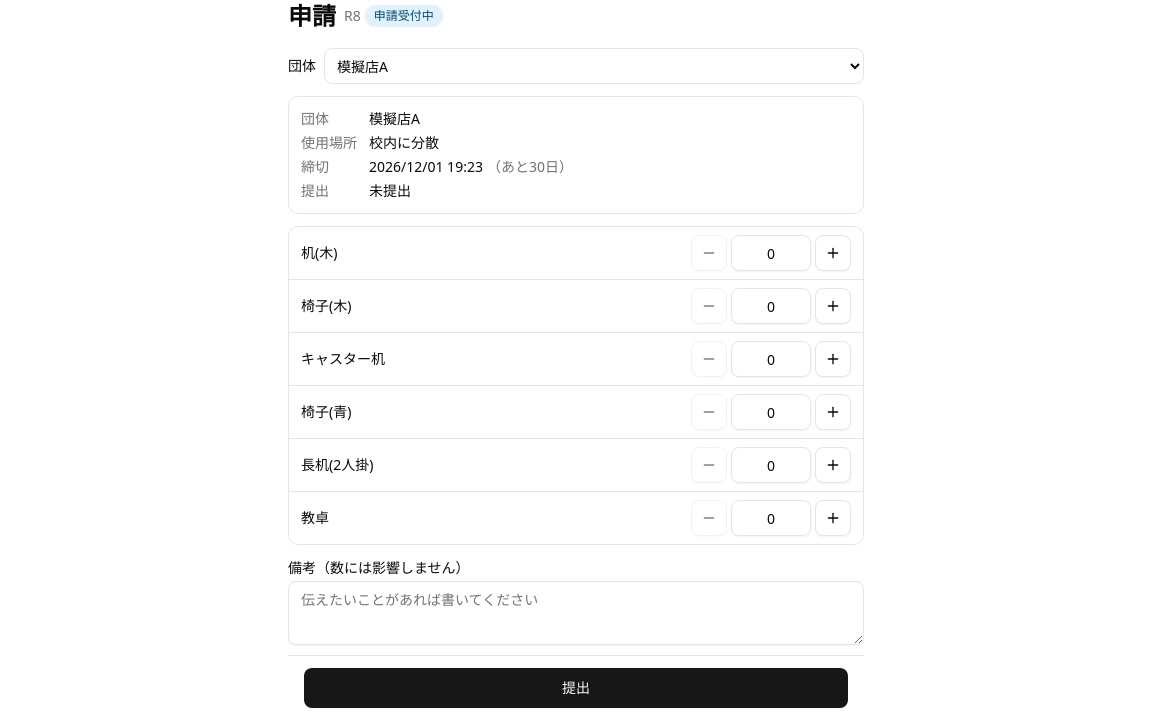
Test: 申請 /request › 提出の応答が届かなかったとき（設計 2.6 の (A)） › 応答が落ちたら入力を残して知らせる。もう一度押すと読み直し、自分の提出が DB に入っていれば送らずに「提出されていました」
Click the button named "机(木)の数を1増やす": [833, 253] box [815,235,851,271]
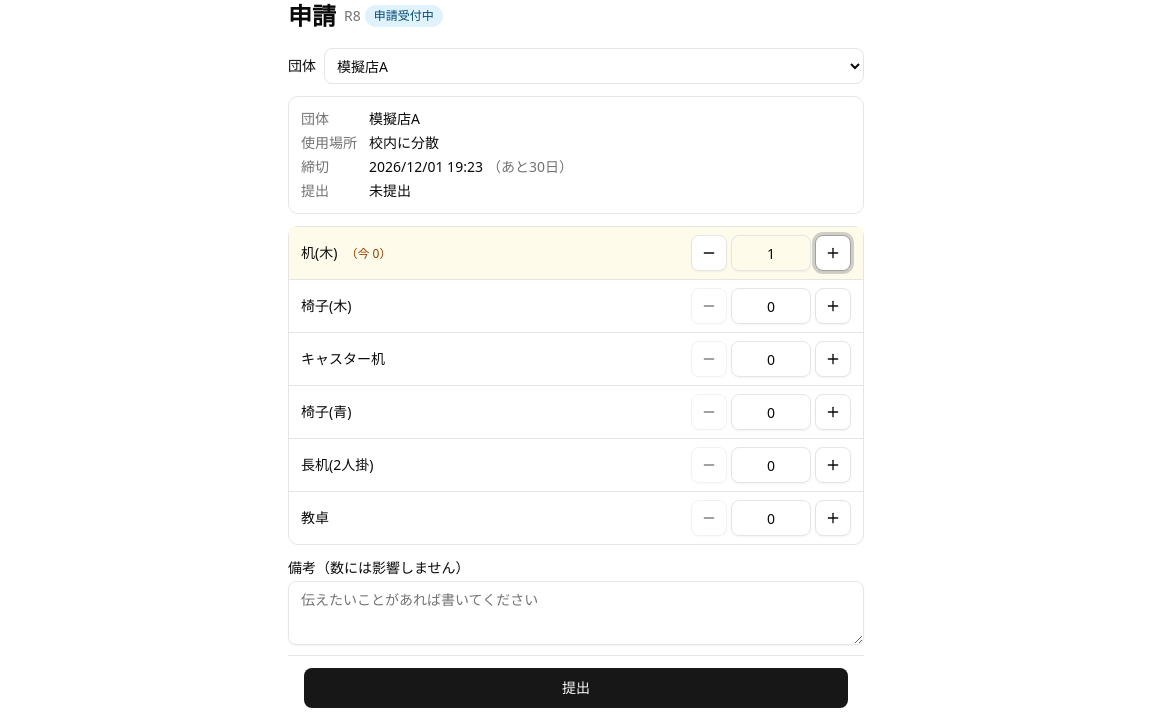
Click the button "提出": [576, 688] box [304,668,848,708]
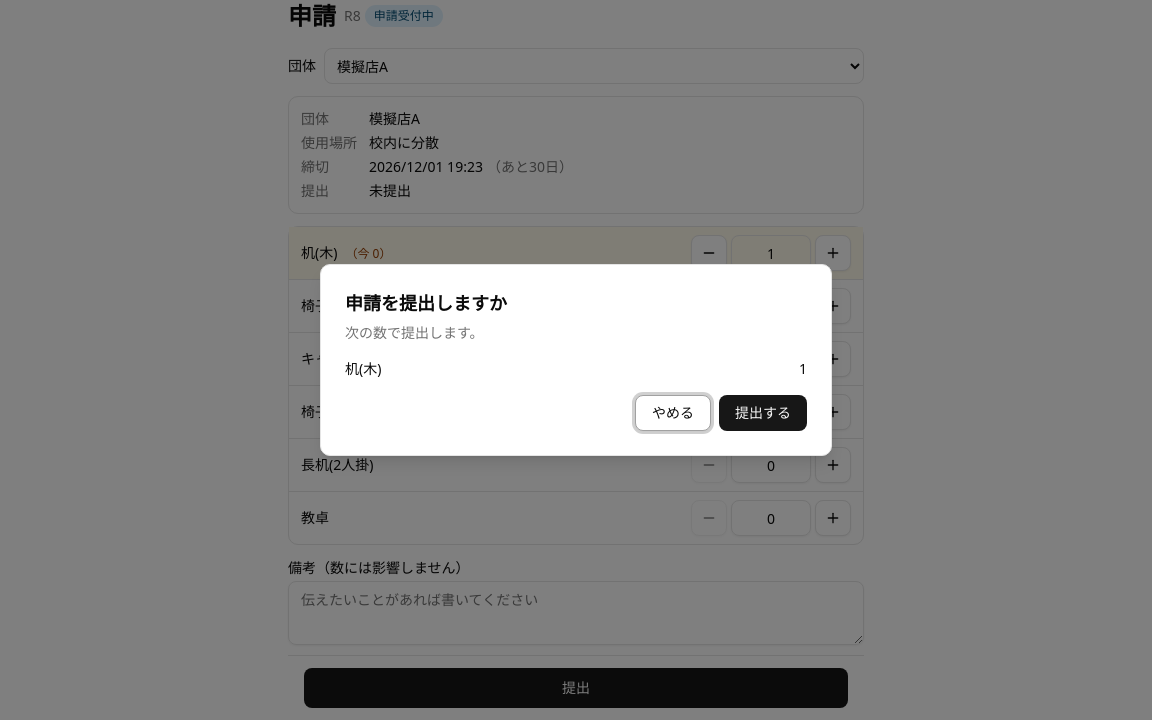
Click the button "提出する": [763, 413] box [719,395,807,431]
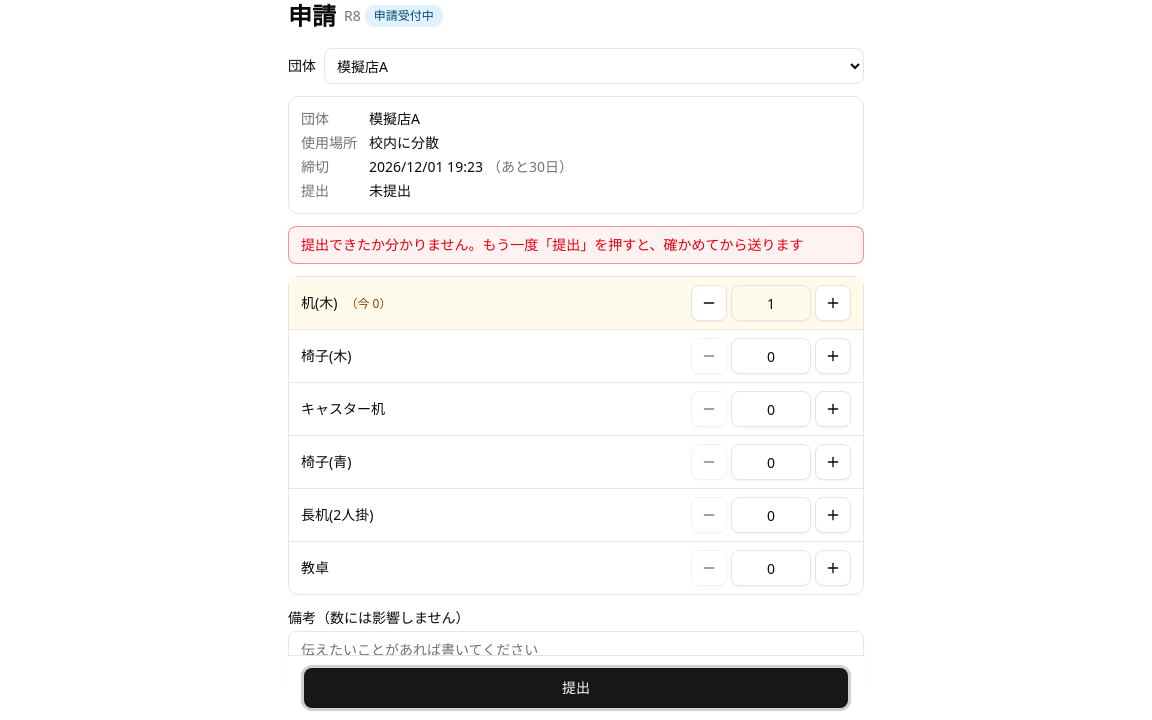
Check: the field with id "request-desk" holds "1", box [731,285,811,321]
Check: the message with test id "submit-error" reads "提出できたか分かりません。もう一度「提出」を押すと、確かめてから送ります", box [301,235,804,254]
Click the button "提出": [576, 688] box [304,668,848,708]
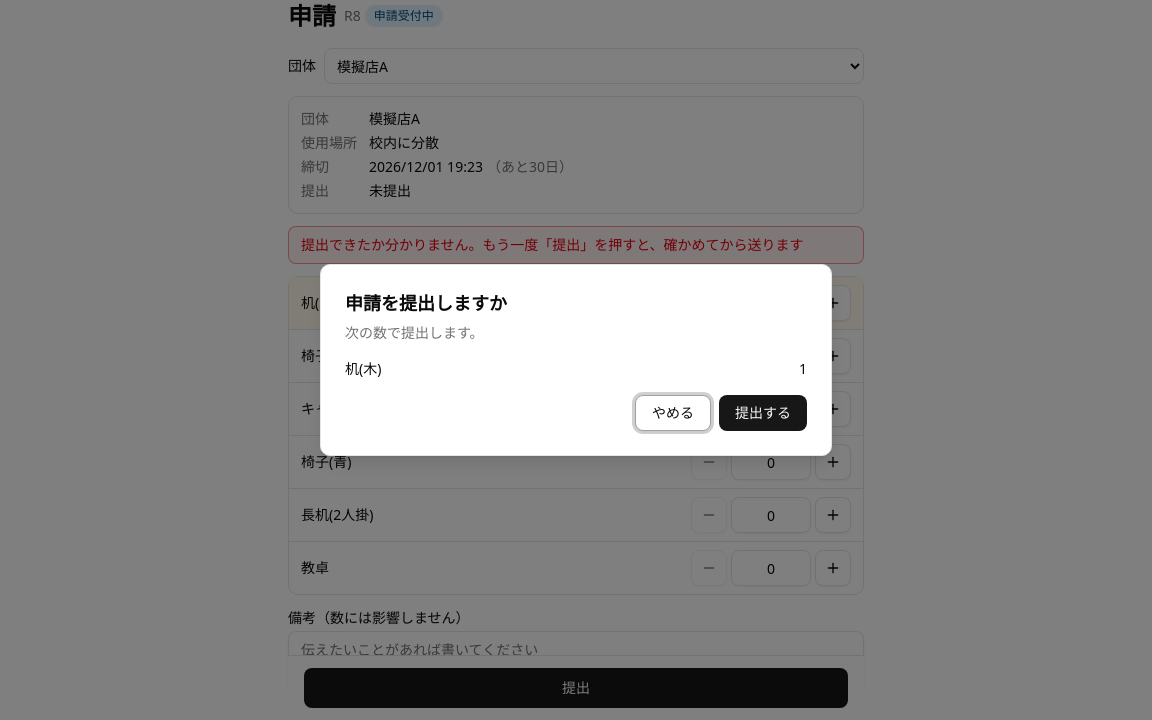
Click the button "提出する": [763, 413] box [719,395,807,431]
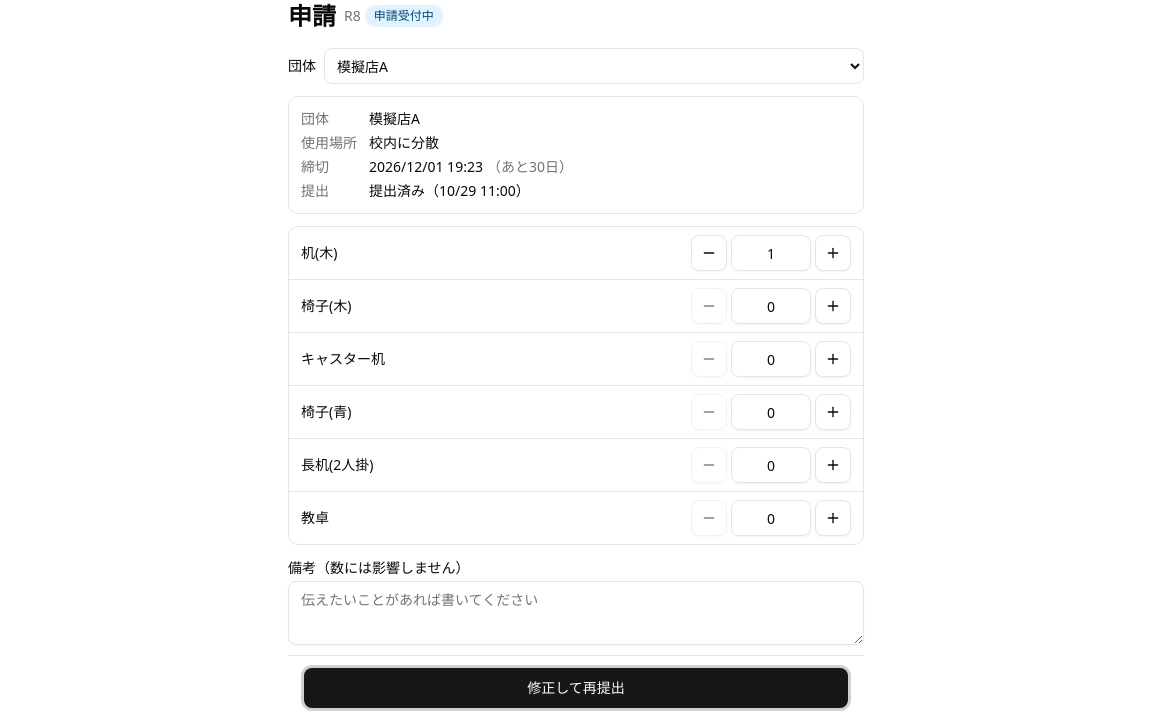
Check: the message with test id "submit-error" is gone
